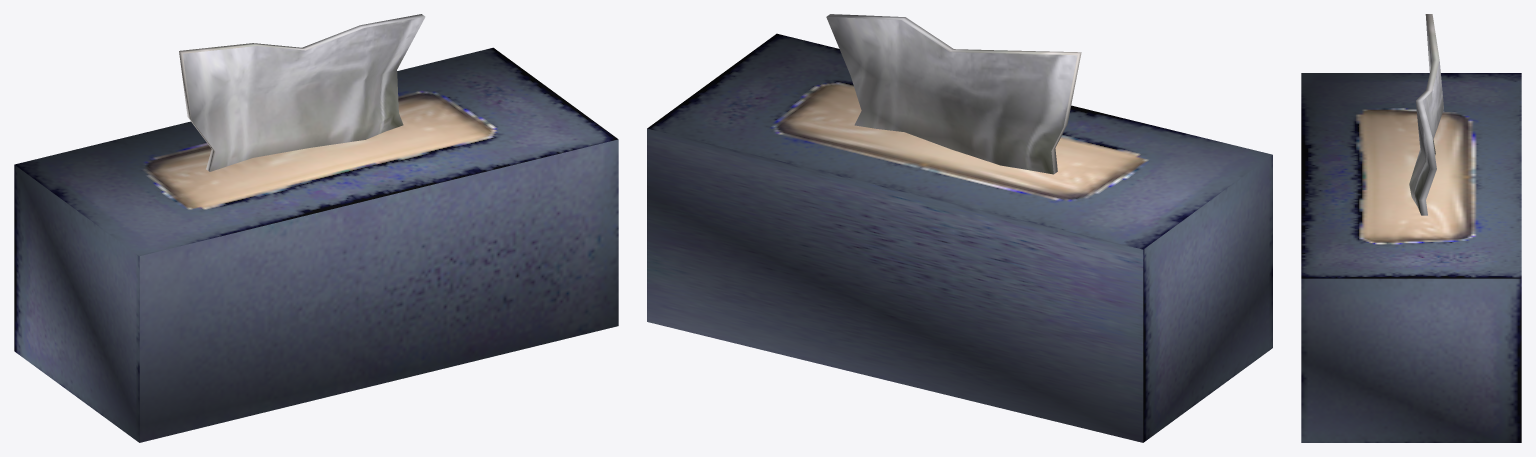
The model's file is tissue_box.FBX.
The picture shows the model from 3 angles, left to right: view 1: azimuth 30°, elevation 25°; view 2: azimuth 150°, elevation 25°; view 3: azimuth 270°, elevation 25°; orthographic projection. The views are drawn at different scales.
Parts seen in each view (by area): view 1: tissue_box; view 2: tissue_box; view 3: tissue_box.
Part boxes in pixels (x1,y1,x2,y2): tissue_box: (14,14,618,442); tissue_box: (647,14,1272,442); tissue_box: (1301,14,1521,442).
Size of the model in its own units: 23.45 by 14.48 by 10.62.
